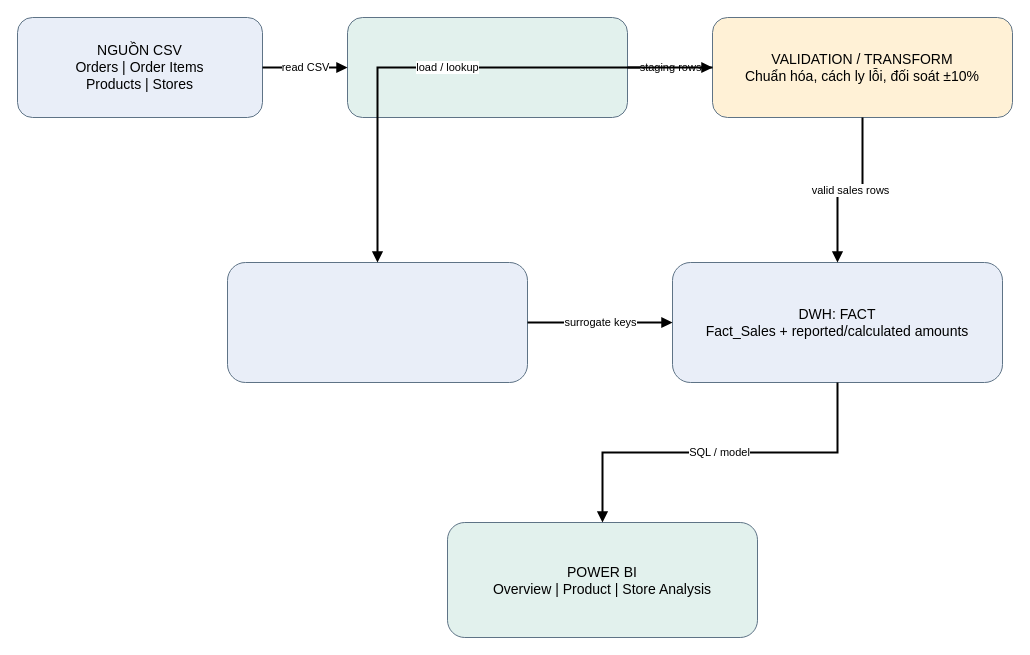
The diagram is 1030 pixels wide and 655 high, and some of its shapes have lost their labels. Each missing label, with the centre of its shape:
DWH: DIMENSIONS Dim_Date | Dim_Product | Dim_Store: the point at 377,322
EXTRACT / STAGING Đọc CSV + lưu metadata dòng nguồn: the point at 487,67
